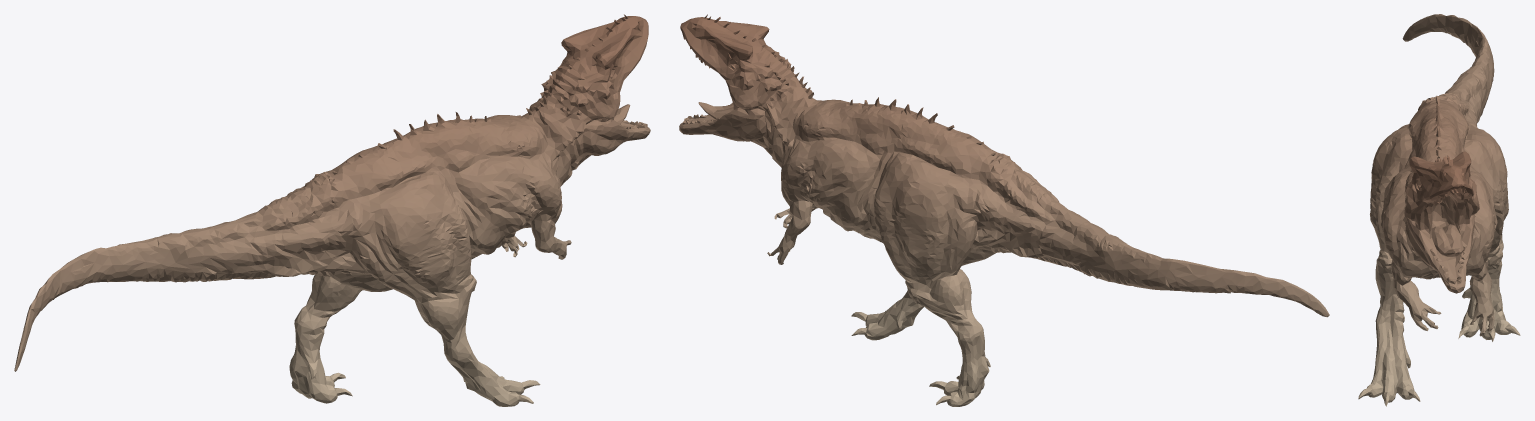
Rendered from acrocanthosaurus.glb.
The picture shows the model from 3 angles, left to right: view 1: azimuth 30°, elevation 25°; view 2: azimuth 150°, elevation 25°; view 3: azimuth 270°, elevation 25°; orthographic projection. The views are drawn at different scales.
Parts seen in each view (by area): view 1: world; view 2: world; view 3: world.
Boxes of the visible parts, <box> form: world: <box>14,14,650,406</box>; world: <box>679,14,1329,406</box>; world: <box>1358,14,1520,406</box>.
Size of the model in its own units: 13.99 by 6.56 by 3.11.
